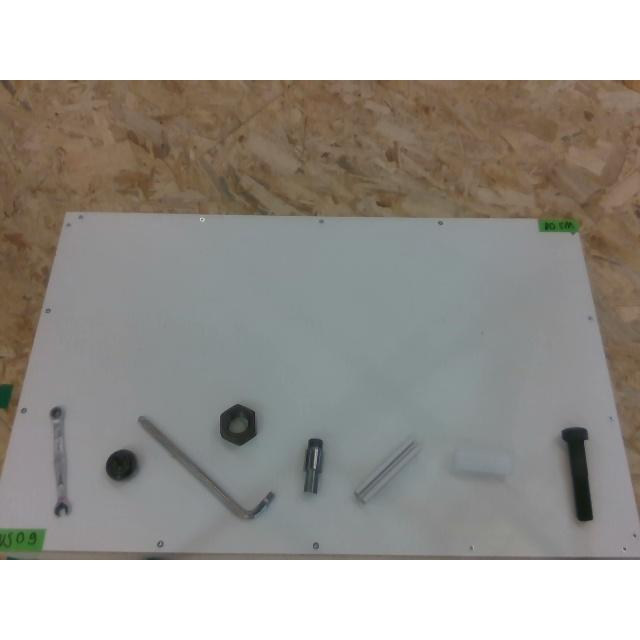AllenKey: (138, 418, 274, 518)
Bearing2: (105, 449, 139, 481)
Drill: (303, 436, 323, 492)
F20_20_G: (354, 441, 418, 504)
M20_100: (560, 427, 592, 521)
M30: (219, 404, 255, 444)
Spacer: (451, 447, 511, 481)
Wrench: (50, 406, 70, 516)
